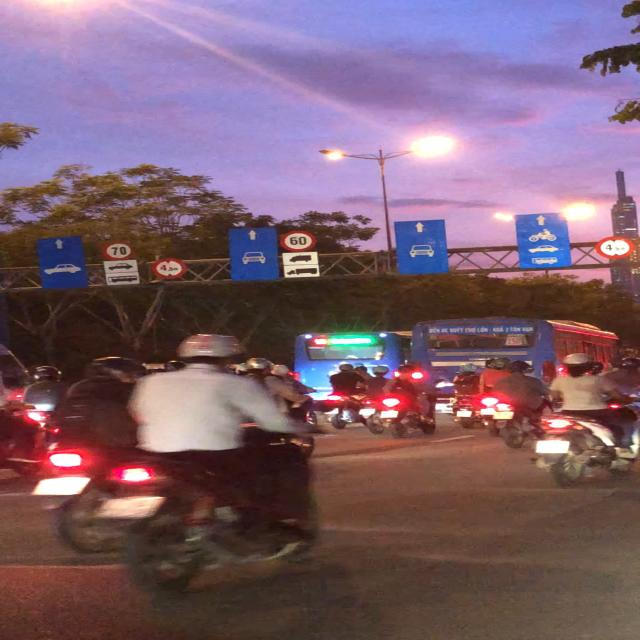Bien bao han che chieu cao: (591, 234, 632, 260), (150, 256, 187, 278)
Bien bao toc do toi da cho phep: (277, 228, 321, 253), (96, 240, 136, 259)
